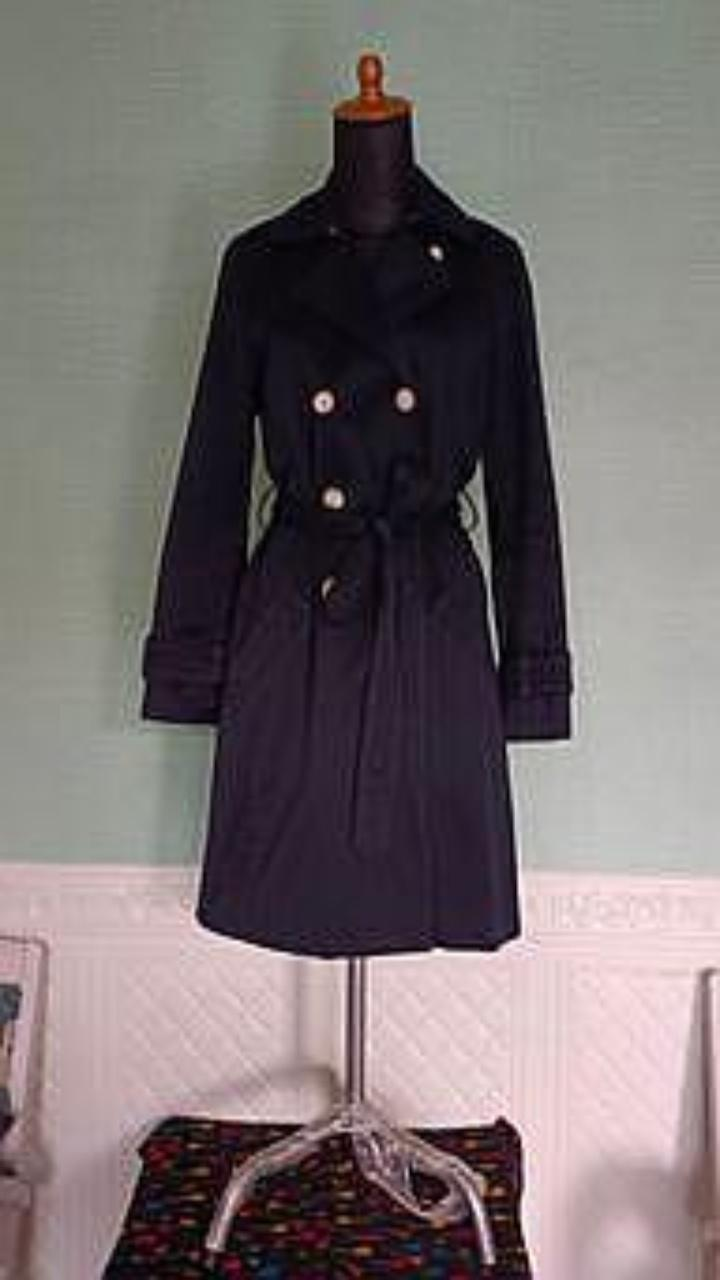Coat: (142, 165, 572, 956)
